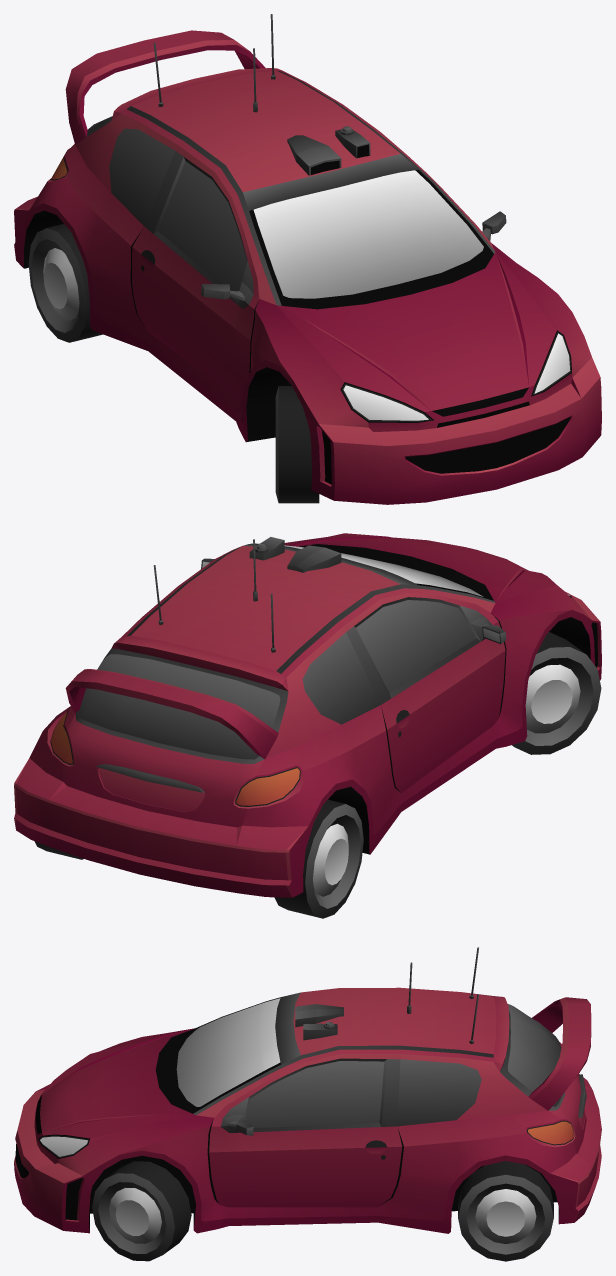
The picture shows the model from 3 angles, top to bottom: view 1: azimuth 30°, elevation 25°; view 2: azimuth 150°, elevation 25°; view 3: azimuth 270°, elevation 25°; orthographic projection. The views are drawn at different scales.
Visible parts, largest first — view 1: Peugeot; view 2: Peugeot; view 3: Peugeot.
Boxes of the visible parts, box(x1,y1,x2,y2) form: Peugeot: box(14, 14, 601, 504); Peugeot: box(14, 533, 601, 918); Peugeot: box(14, 947, 601, 1261).
Size of the model in its own units: 2.05 by 1.81 by 3.96.
Materials: 1 (1 with a texture image).
